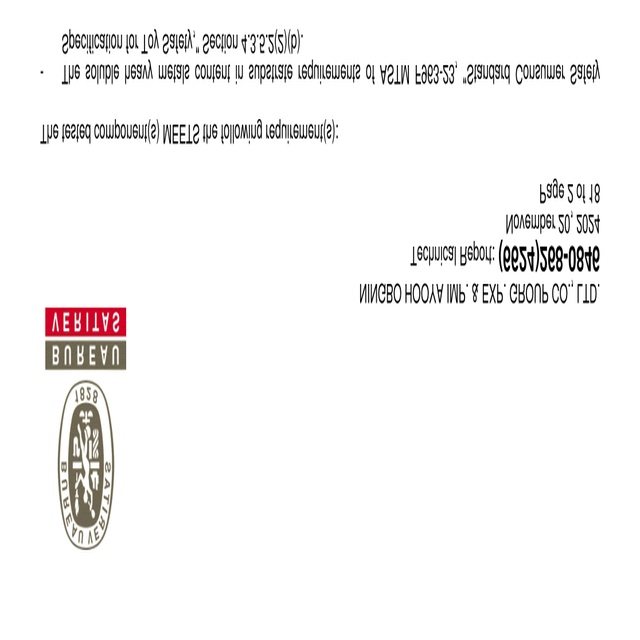bureau_veritas: (37, 303, 129, 556)
